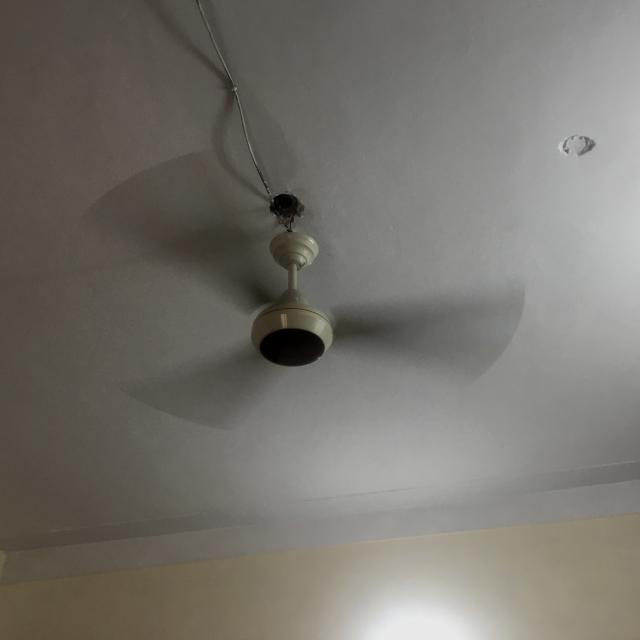on: (79, 142, 528, 432)
